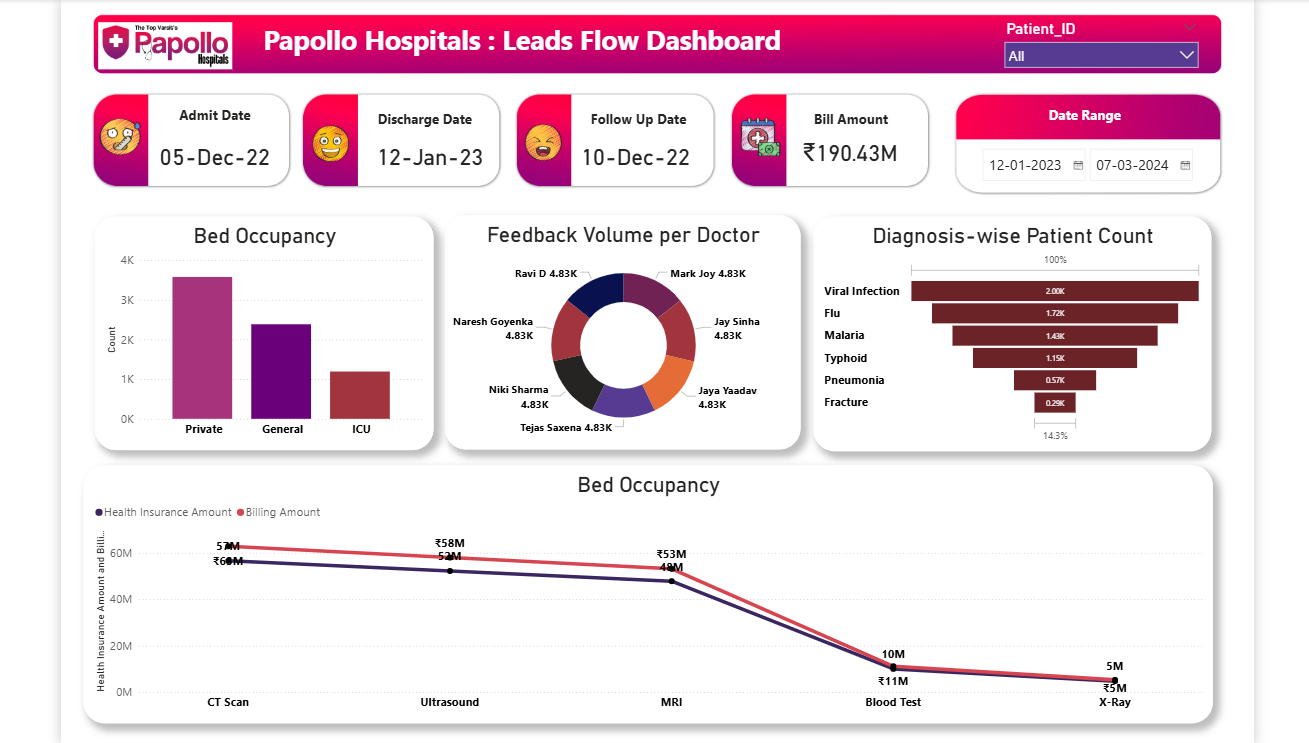

The dashboard page shown, as its layout file describes it:
{"tool":"powerbi","page":{"name":"Page 2","canvas":[1680,1050],"ordinal":0},"visuals":[{"type":"textbox","box":[280,27.1,755.7,74.3],"z":0},{"type":"image","box":[2636.7,100,623.3,150],"z":1000},{"type":"slicer","fields":{"Values":["Sheet1.Patient_ID"]},"box":[2400,373.3,793.3,420],"z":2000},{"type":"card","fields":{"Values":["Min(Sheet1.Admit_Date)"]},"box":[383.5,183,274.5,47.5],"z":3000},{"type":"card","fields":{"Values":["Min(Sheet1.Discharge_Date)"]},"box":[84.5,174.2,272.7,59.8],"z":4000},{"type":"card","fields":{"Values":["Min(Sheet1.Followup Date)"]},"box":[717.8,183,202.3,47.5],"z":5000},{"type":"textbox","box":[152.9,145.7,127.1,57.1],"z":6000},{"type":"textbox","box":[437.1,151.4,151.4,37.1],"z":7000},{"type":"textbox","box":[732.9,151.4,158.6,37.1],"z":8000},{"type":"textbox","box":[1035.7,151.4,151.4,37.1],"z":9000},{"type":"card","fields":{"Values":["Sum(Sheet1.Billing Amount)"]},"box":[1031.4,194.3,158.6,42.9],"z":10000},{"type":"image","box":[50,157.1,68.6,74.3],"z":11000},{"type":"image","box":[348.6,172.9,62.9,62.9],"z":12000},{"type":"image","box":[640,171.4,77.1,62.9],"z":13000},{"type":"image","box":[951.4,158.6,65.7,71.4],"z":14000},{"type":"columnChart","title":"Bed Occupancy","fields":{"Category":["Sheet1.Bed_Occupancy"],"Y":["CountNonNull(Sheet1.Bed_Occupancy)"]},"box":[47.1,305.7,477.1,328.6],"z":15000},{"type":"donutChart","title":"Feedback Volume per Doctor","fields":{"Category":["Sheet1.Doctor"],"Y":["Sum(Sheet1.Feedback)"]},"box":[540.2,305.2,501,329.5],"z":16000},{"type":"funnel","title":"Diagnosis-wise Patient Count","fields":{"Category":["Sheet1.Diagnosis"],"Y":["CountNonNull(Sheet1.Diagnosis)"]},"box":[1060,305.7,560,330],"z":17000},{"type":"image","box":[30,24.3,274.3,77.1],"z":18000},{"type":"lineChart","title":"Bed Occupancy","fields":{"Y":["Sum(Sheet1.Health Insurance Amount)","Sum(Sheet1.Billing Amount)"],"Category":["Sheet1.Test"]},"box":[29.9,666.8,1616.9,353.6],"z":19000},{"type":"slicer","fields":{"Values":["Sheet1.Admit_Date"]},"box":[1284.3,201.2,360.6,68.9],"z":20000},{"type":"slicer","fields":{"Values":["Sheet1.Patient_ID"]},"box":[1317.1,24.3,292.9,82.9],"z":21000},{"type":"textbox","box":[1365.7,145.7,151.4,37.1],"z":22000}]}

Visuals, with their boxes on the page's 1680x1050 design canvas (x1, y1, x2, y2). These are canvas units, not pixel positions in the 1309x743 screenshot, which may show the page scaled, cropped or inside an application window:
textbox: (280,27,1036,101)
image: (2637,100,3260,250)
slicer - Sheet1.Patient_ID: (2400,373,3193,793)
card - Min(Sheet1.Admit_Date): (384,183,658,230)
card - Min(Sheet1.Discharge_Date): (84,174,357,234)
card - Min(Sheet1.Followup Date): (718,183,920,230)
textbox: (153,146,280,203)
textbox: (437,151,588,188)
textbox: (733,151,892,188)
textbox: (1036,151,1187,188)
card - Sum(Sheet1.Billing Amount): (1031,194,1190,237)
image: (50,157,119,231)
image: (349,173,412,236)
image: (640,171,717,234)
image: (951,159,1017,230)
"Bed Occupancy" columnChart: (47,306,524,634)
"Feedback Volume per Doctor" donutChart: (540,305,1041,635)
"Diagnosis-wise Patient Count" funnel: (1060,306,1620,636)
image: (30,24,304,101)
"Bed Occupancy" lineChart: (30,667,1647,1020)
slicer - Sheet1.Admit_Date: (1284,201,1645,270)
slicer - Sheet1.Patient_ID: (1317,24,1610,107)
textbox: (1366,146,1517,183)
